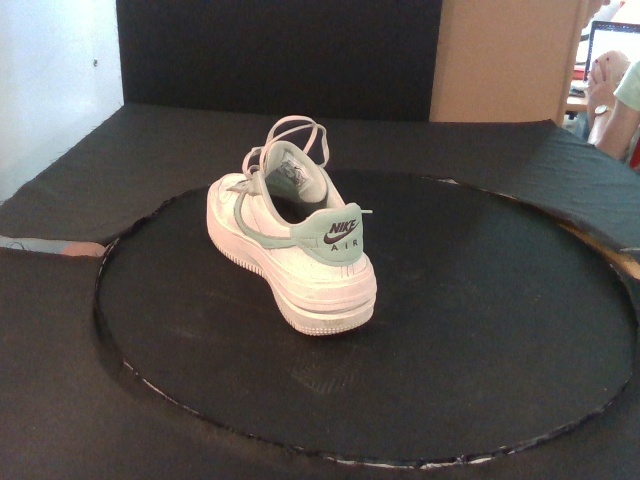shoe: (205, 139, 377, 337)
